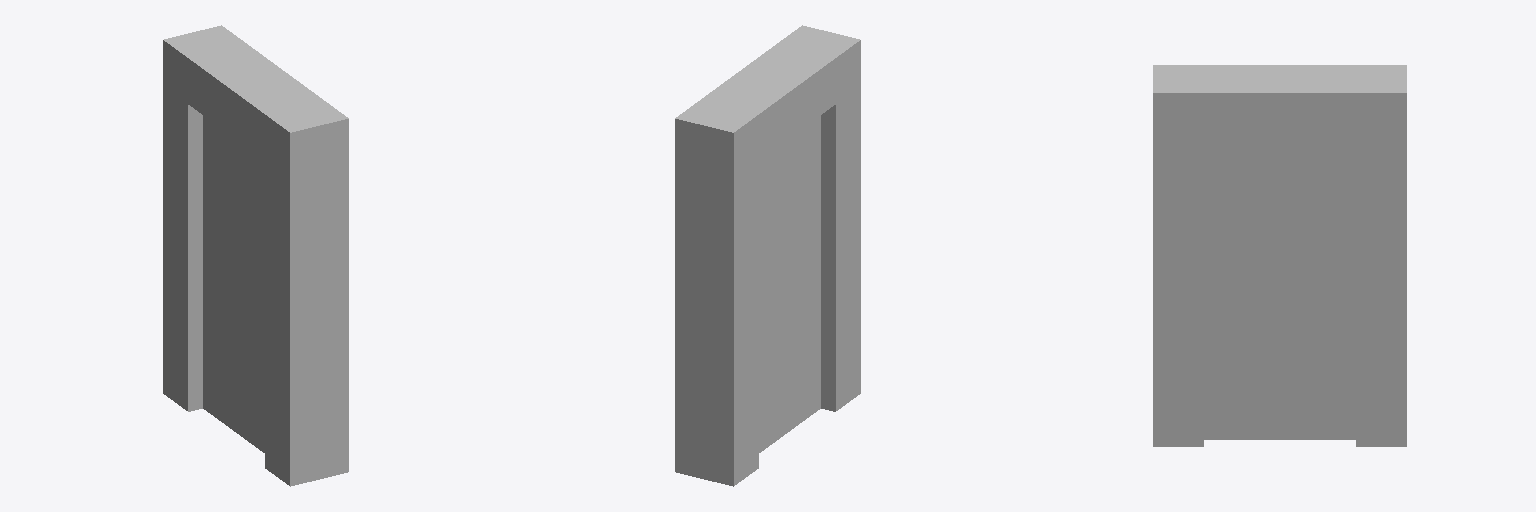
File: Portal.obj
3 renders of one model, left to right at view 1: azimuth 30°, elevation 25°; view 2: azimuth 150°, elevation 25°; view 3: azimuth 270°, elevation 25°, orthographic.
Visible parts, largest first — view 1: object 1; view 2: object 1; view 3: object 1.
Part boxes in pixels (left/top/right/bottom): object 1: left=163, top=25, right=348, bottom=486; object 1: left=675, top=25, right=860, bottom=486; object 1: left=1153, top=65, right=1406, bottom=446.
Bounding box in the file's own units: 0.4 × 2.3 × 1.5.